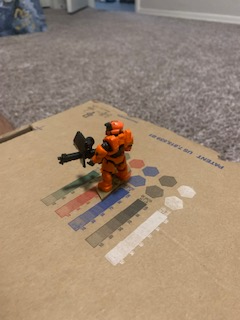soldier: (55, 119, 138, 194)
